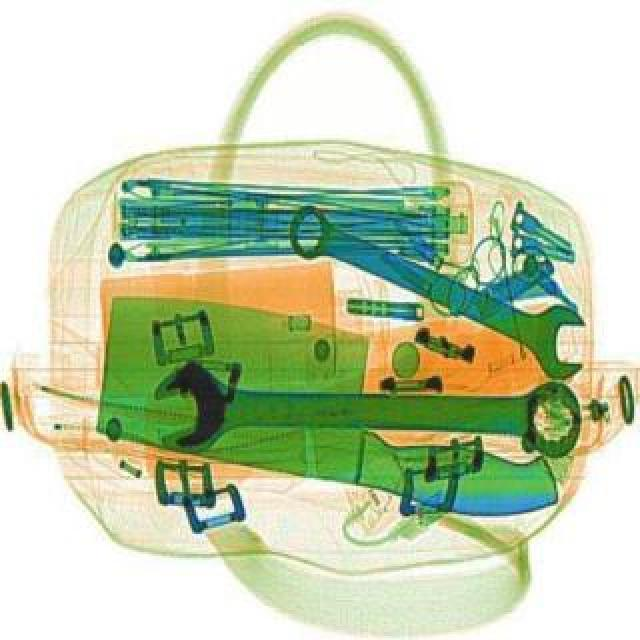knife: (78, 278, 586, 530)
scissors: (272, 188, 604, 384), (152, 360, 580, 460)
